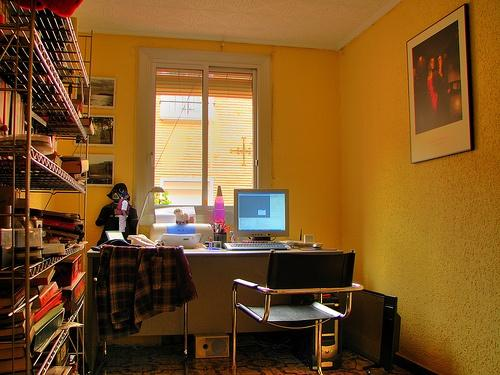tampered: (117, 192, 299, 232)
